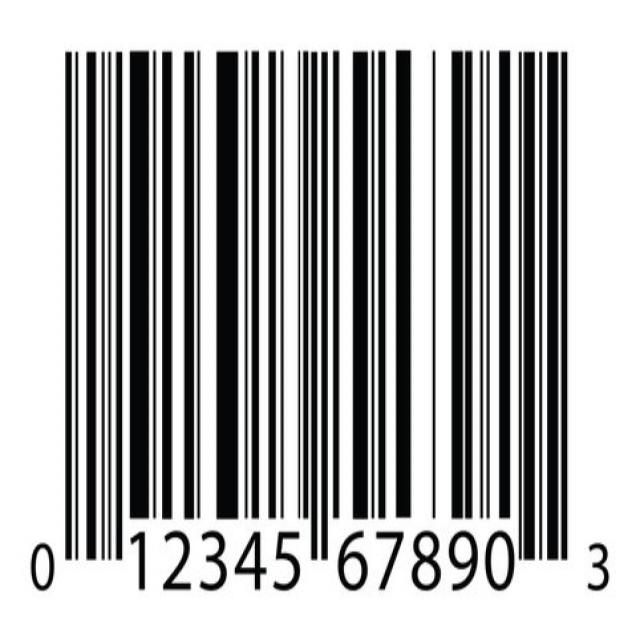Barkod: (22, 32, 614, 609)
